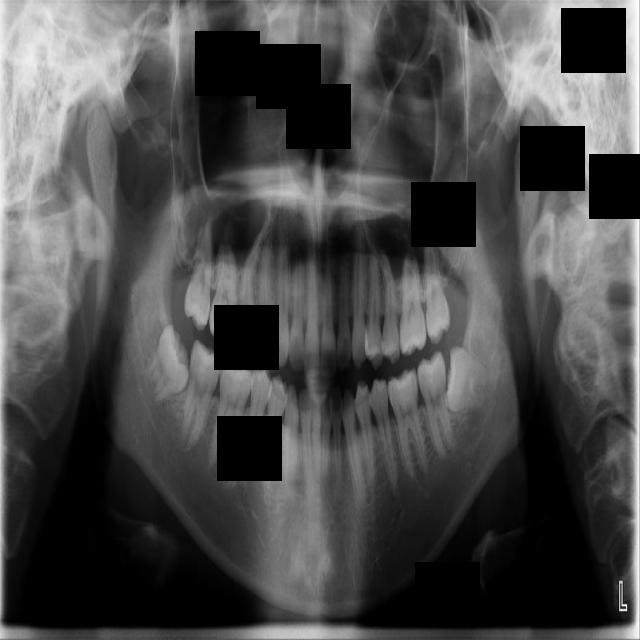73: (596, 585, 606, 600)
BioHorizons Implant: (422, 241, 452, 346)
Biomet 3i Implant: (441, 344, 490, 416)
Blue Sky Bio Implant: (414, 350, 456, 461)
Caries: (182, 215, 216, 332)
Implant: (178, 338, 225, 454)
Keystone Dental Implant: (136, 323, 206, 412)
